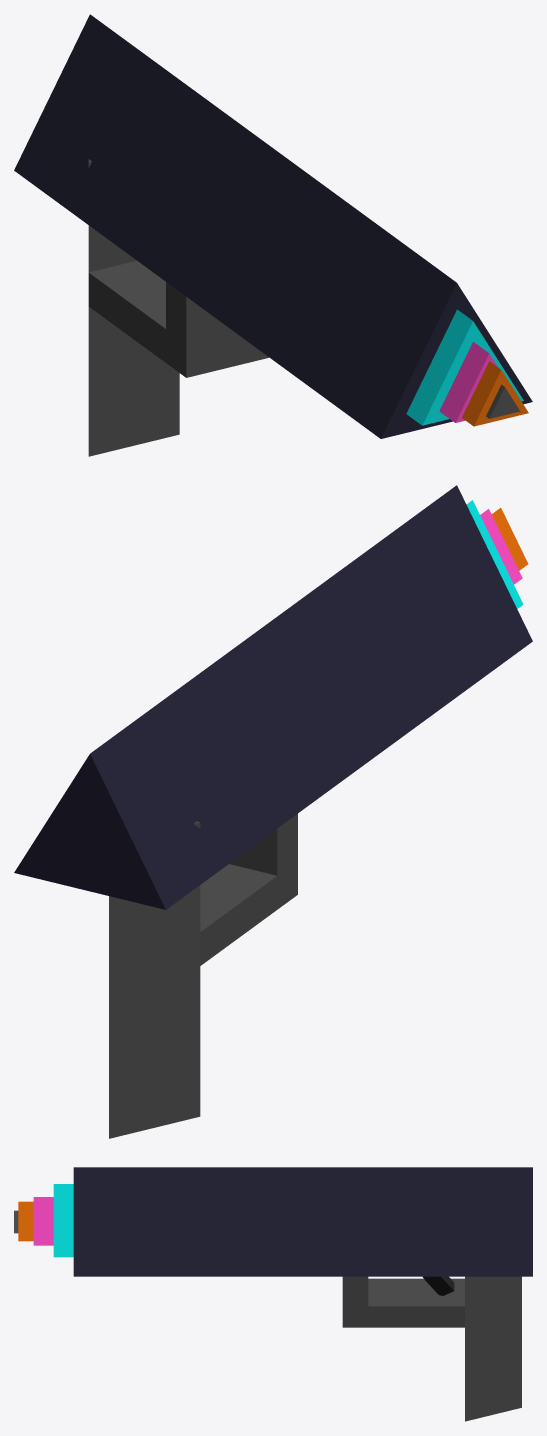
Rendered from Glock.fbx.
3 renders of one model, top to bottom at view 1: azimuth 30°, elevation 25°; view 2: azimuth 150°, elevation 25°; view 3: azimuth 270°, elevation 25°, orthographic. The views are drawn at different scales.
Visible parts, largest first — view 1: Cylinder, Cylinder.005, TriangleThing1, TriangleThing2, TriangleThing3, ShootPoint; view 2: Cylinder, Cylinder.005, TriangleThing1, TriangleThing2, TriangleThing3; view 3: Cylinder, Cylinder.005, TriangleThing1, TriangleThing2, TriangleThing3, Cylinder.006.
Boxes of the visible parts, x1,y1,x2,y2 form: Cylinder: [14, 14, 532, 438]; Cylinder.005: [88, 159, 268, 456]; TriangleThing1: [406, 309, 523, 425]; TriangleThing2: [439, 341, 497, 422]; TriangleThing3: [462, 361, 528, 426]; ShootPoint: [486, 384, 520, 418]; Cylinder: [14, 485, 532, 909]; Cylinder.005: [109, 814, 297, 1138]; TriangleThing1: [466, 500, 523, 608]; TriangleThing2: [480, 509, 522, 584]; TriangleThing3: [491, 507, 528, 570]; Cylinder: [73, 1167, 532, 1276]; Cylinder.005: [342, 1276, 521, 1421]; TriangleThing1: [53, 1184, 73, 1257]; TriangleThing2: [33, 1197, 53, 1245]; TriangleThing3: [18, 1201, 33, 1241]; Cylinder.006: [423, 1276, 454, 1295].
Size of the model in its own units: 18.41 by 45.02 by 86.94.
